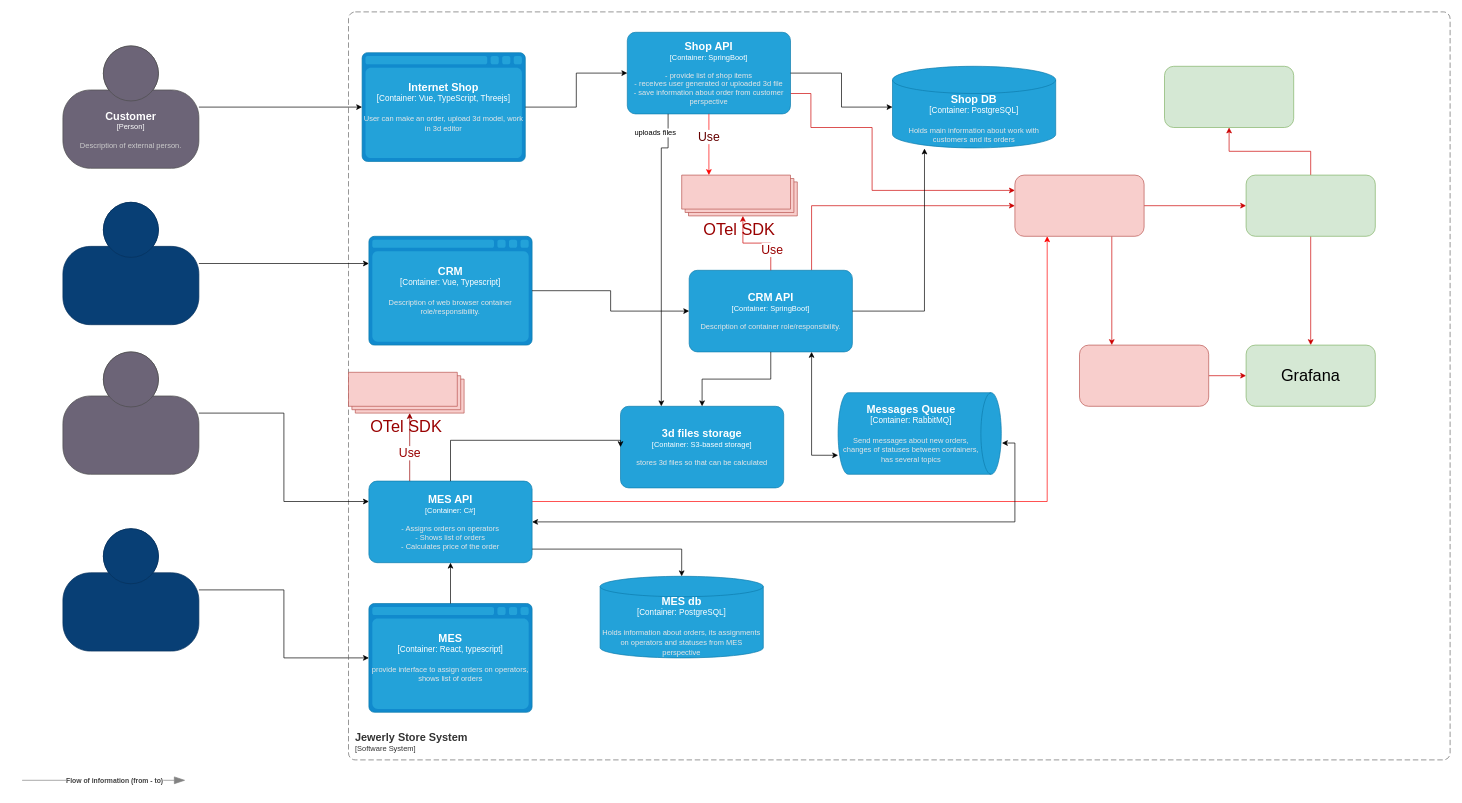
This 1462x803 diagram has some shape labels left out. The centre of each missing label's shape, as x and y in pixels:
AlertManager: (1229,97)
API user [Person] Description of external person.: (130,412)
Jager: (1144,375)
Operator [Person] Takes order in work, manufactures jewerly: (130,589)
OTel Collector: (1079,205)
Prometheus: (1310,205)
Seller [Person] Operates with order, confirms manufacturing for the user: (130,263)
